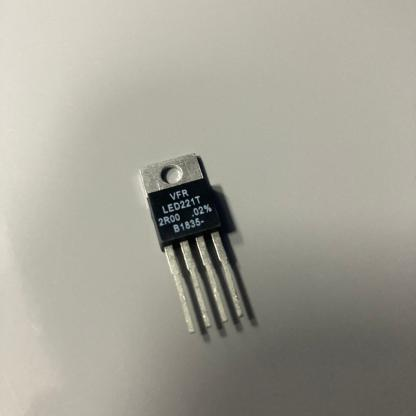SP0000012: (91, 113, 305, 388)
